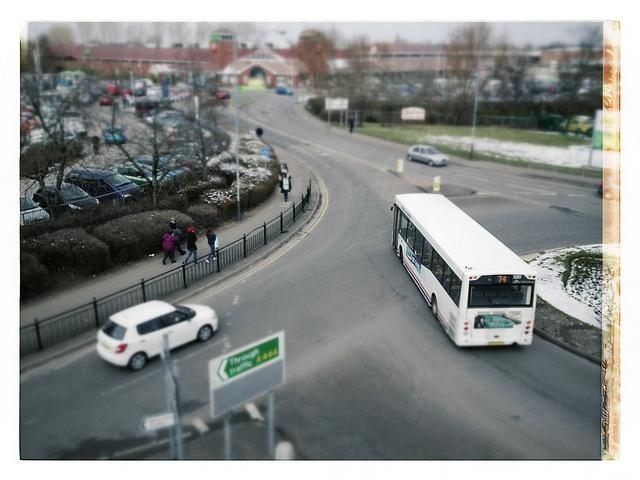bus: (391, 191, 538, 348)
car: (94, 298, 220, 372), (64, 167, 145, 204), (31, 183, 104, 218), (112, 160, 171, 183), (133, 154, 187, 175), (18, 194, 50, 226), (407, 145, 450, 166), (127, 79, 146, 99), (104, 126, 125, 144), (276, 84, 294, 96), (214, 88, 232, 98), (100, 96, 112, 104)
